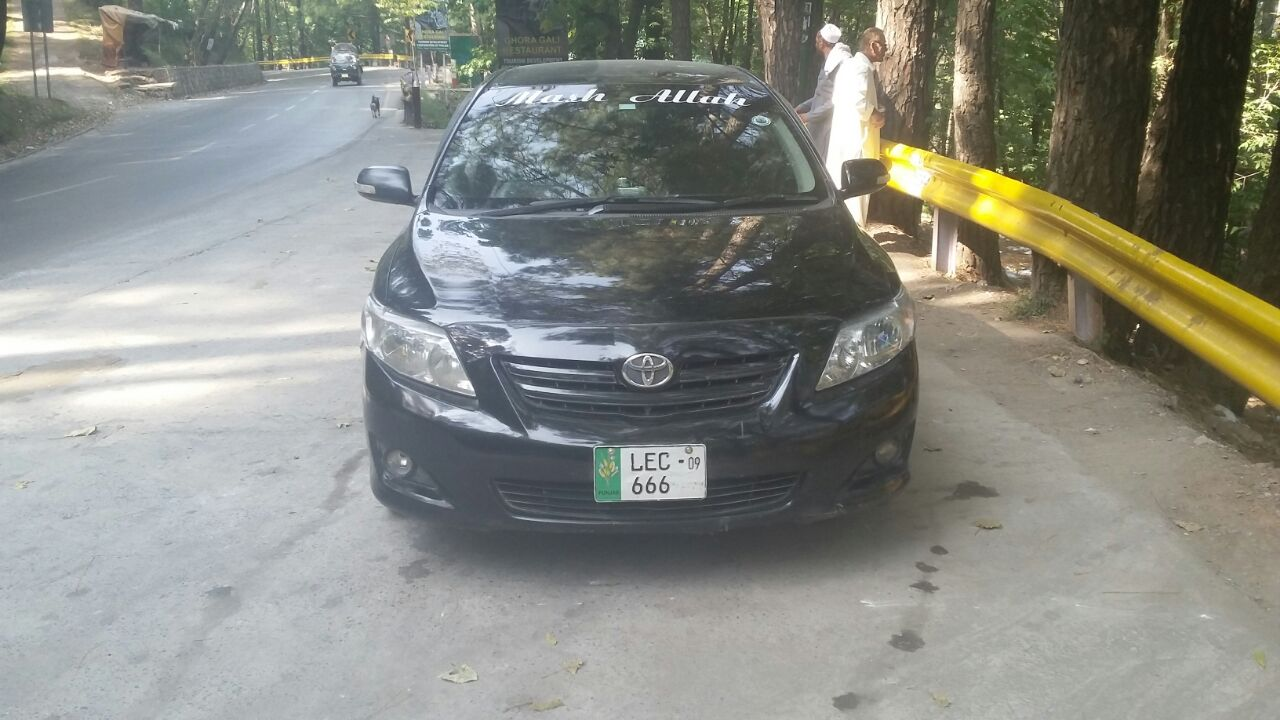plate: (588, 438, 713, 508)
